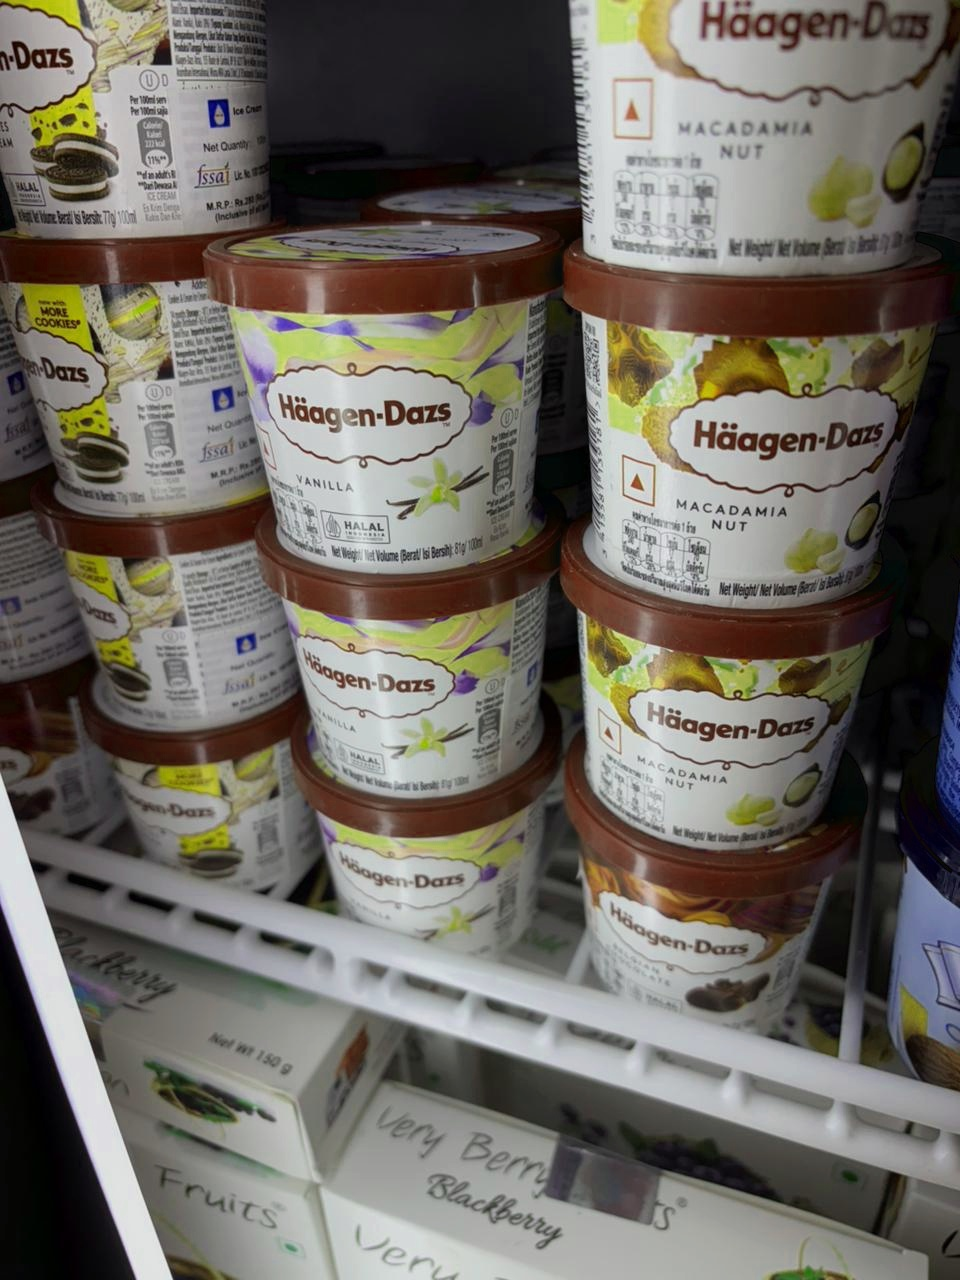Haagen-Dazs IceCream Tub: (542, 228, 920, 619), (545, 703, 863, 1091), (194, 207, 556, 544), (550, 515, 875, 875), (566, 0, 951, 271), (241, 518, 548, 809), (7, 240, 283, 527), (286, 723, 553, 998), (0, 0, 285, 241), (32, 465, 296, 706), (74, 671, 304, 898)
